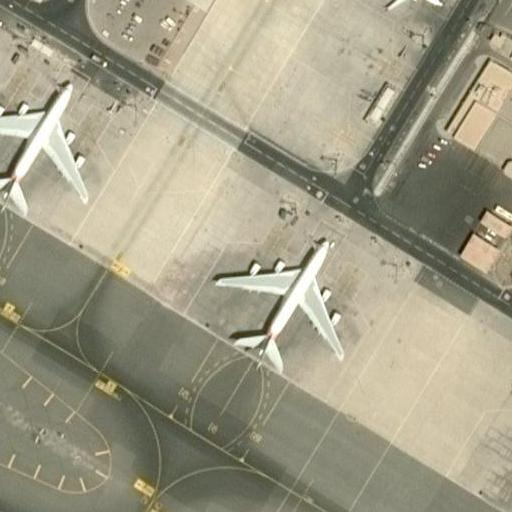Aircraft: (211, 235, 348, 371), (0, 76, 86, 213), (371, 0, 444, 12)
